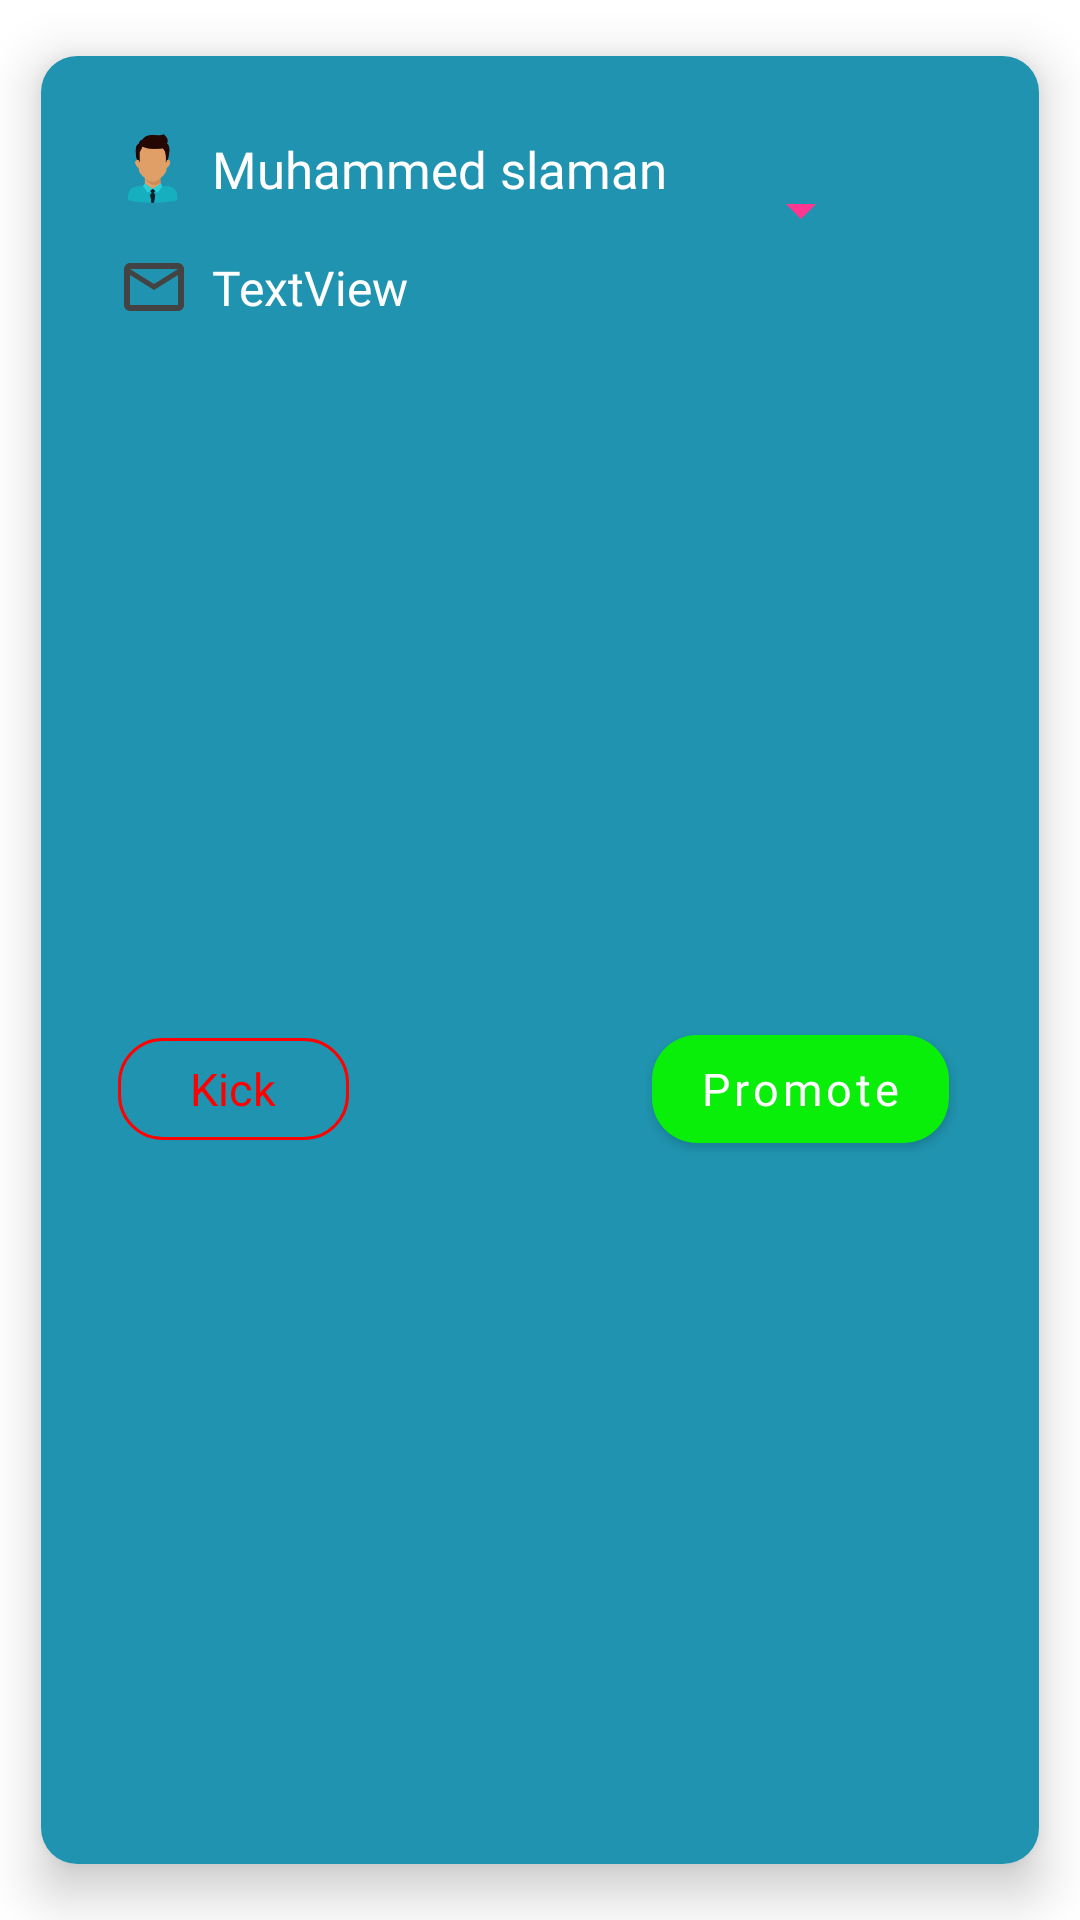

Icon bounding boxes for this 1080w x 1920h phone screenshot, format (x1, y1, x2, y2):
mail: (124, 263, 184, 311)
man: (128, 134, 177, 203)
